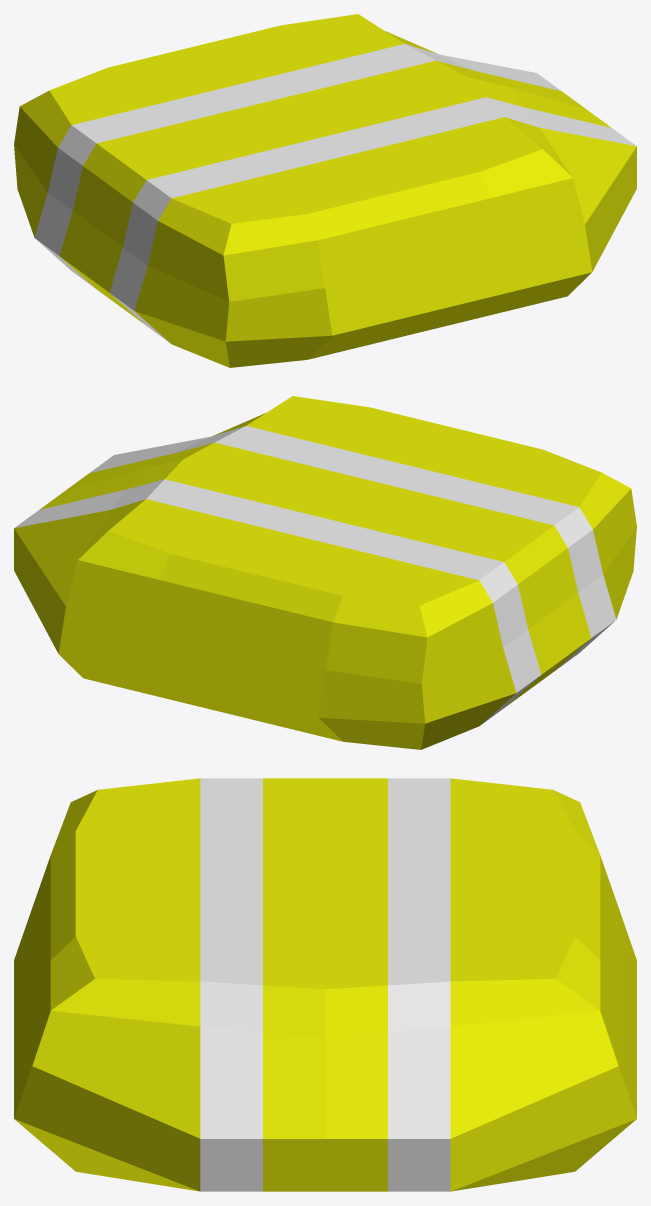
The model's file is Tank_DefaultTurret.fbx.
The picture shows the model from 3 angles, top to bottom: view 1: azimuth 30°, elevation 25°; view 2: azimuth 150°, elevation 25°; view 3: azimuth 270°, elevation 25°; orthographic projection. The views are drawn at different scales.
Visible parts, largest first — view 1: Turret; view 2: Turret; view 3: Turret.
Boxes of the visible parts, box(x1,y1,x2,y2) form: Turret: box(14, 14, 636, 367); Turret: box(14, 396, 636, 749); Turret: box(14, 778, 636, 1191).
Size of the model in its own units: 436 by 121 by 374.
